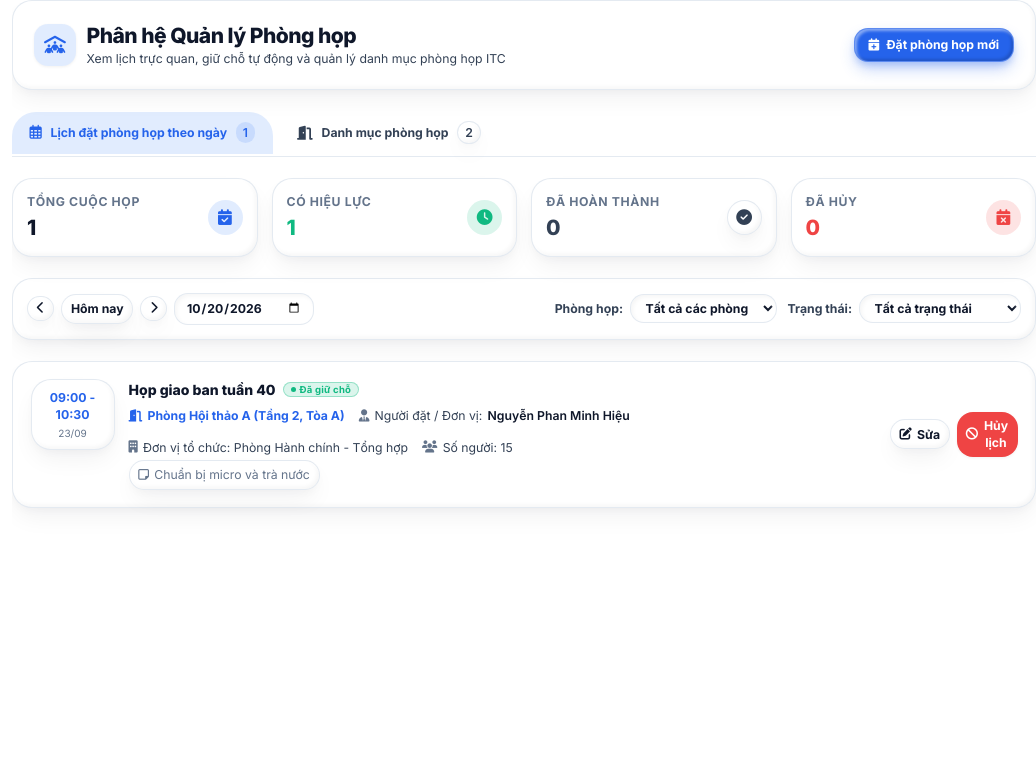
Scenario: MeetingsPage Component (Issue #22) › switches between Schedule tab and Rooms tab
Expected: the text "Họp giao ban tuần 40" is shown, [128,379,276,400]
// Switch to Danh mục phòng họp
Click the text "Danh mục phòng họp".
click(385, 133)  # box [322,124,448,141]
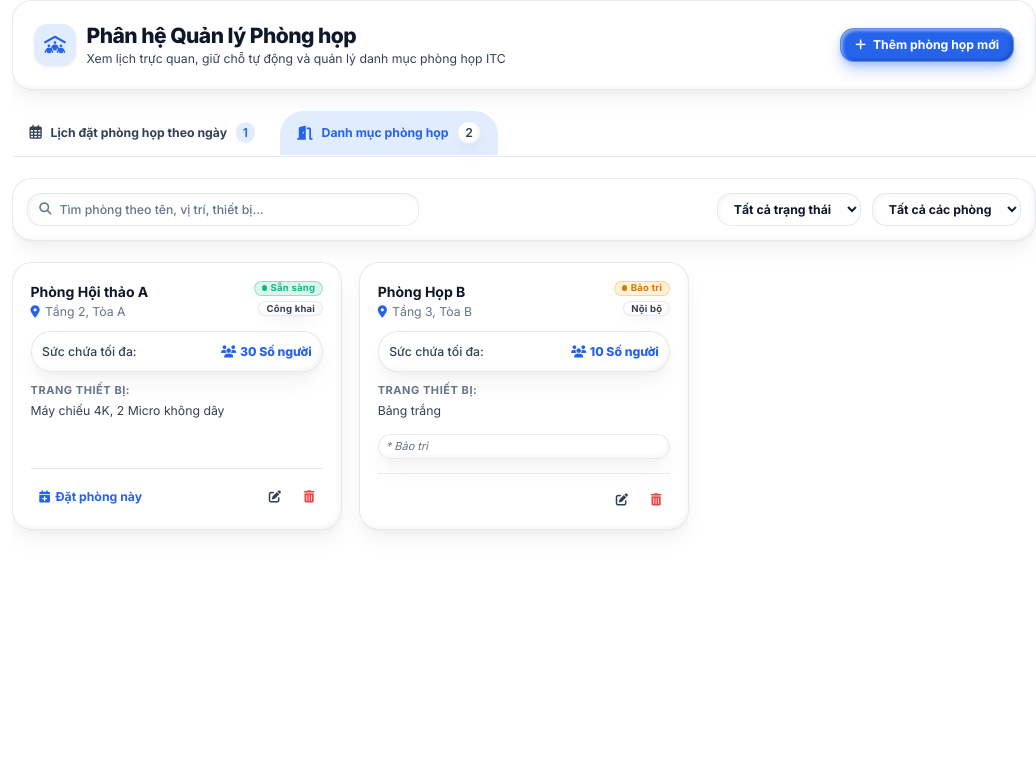
Expected: the heading "Phòng Hội thảo A" is shown, [30,280,148,302]
Expected: the heading "Phòng Họp B" is shown, [378,280,472,302]
